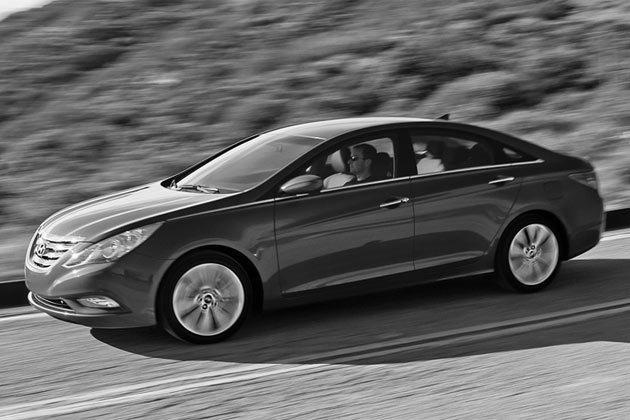car: (23, 118, 608, 349)
